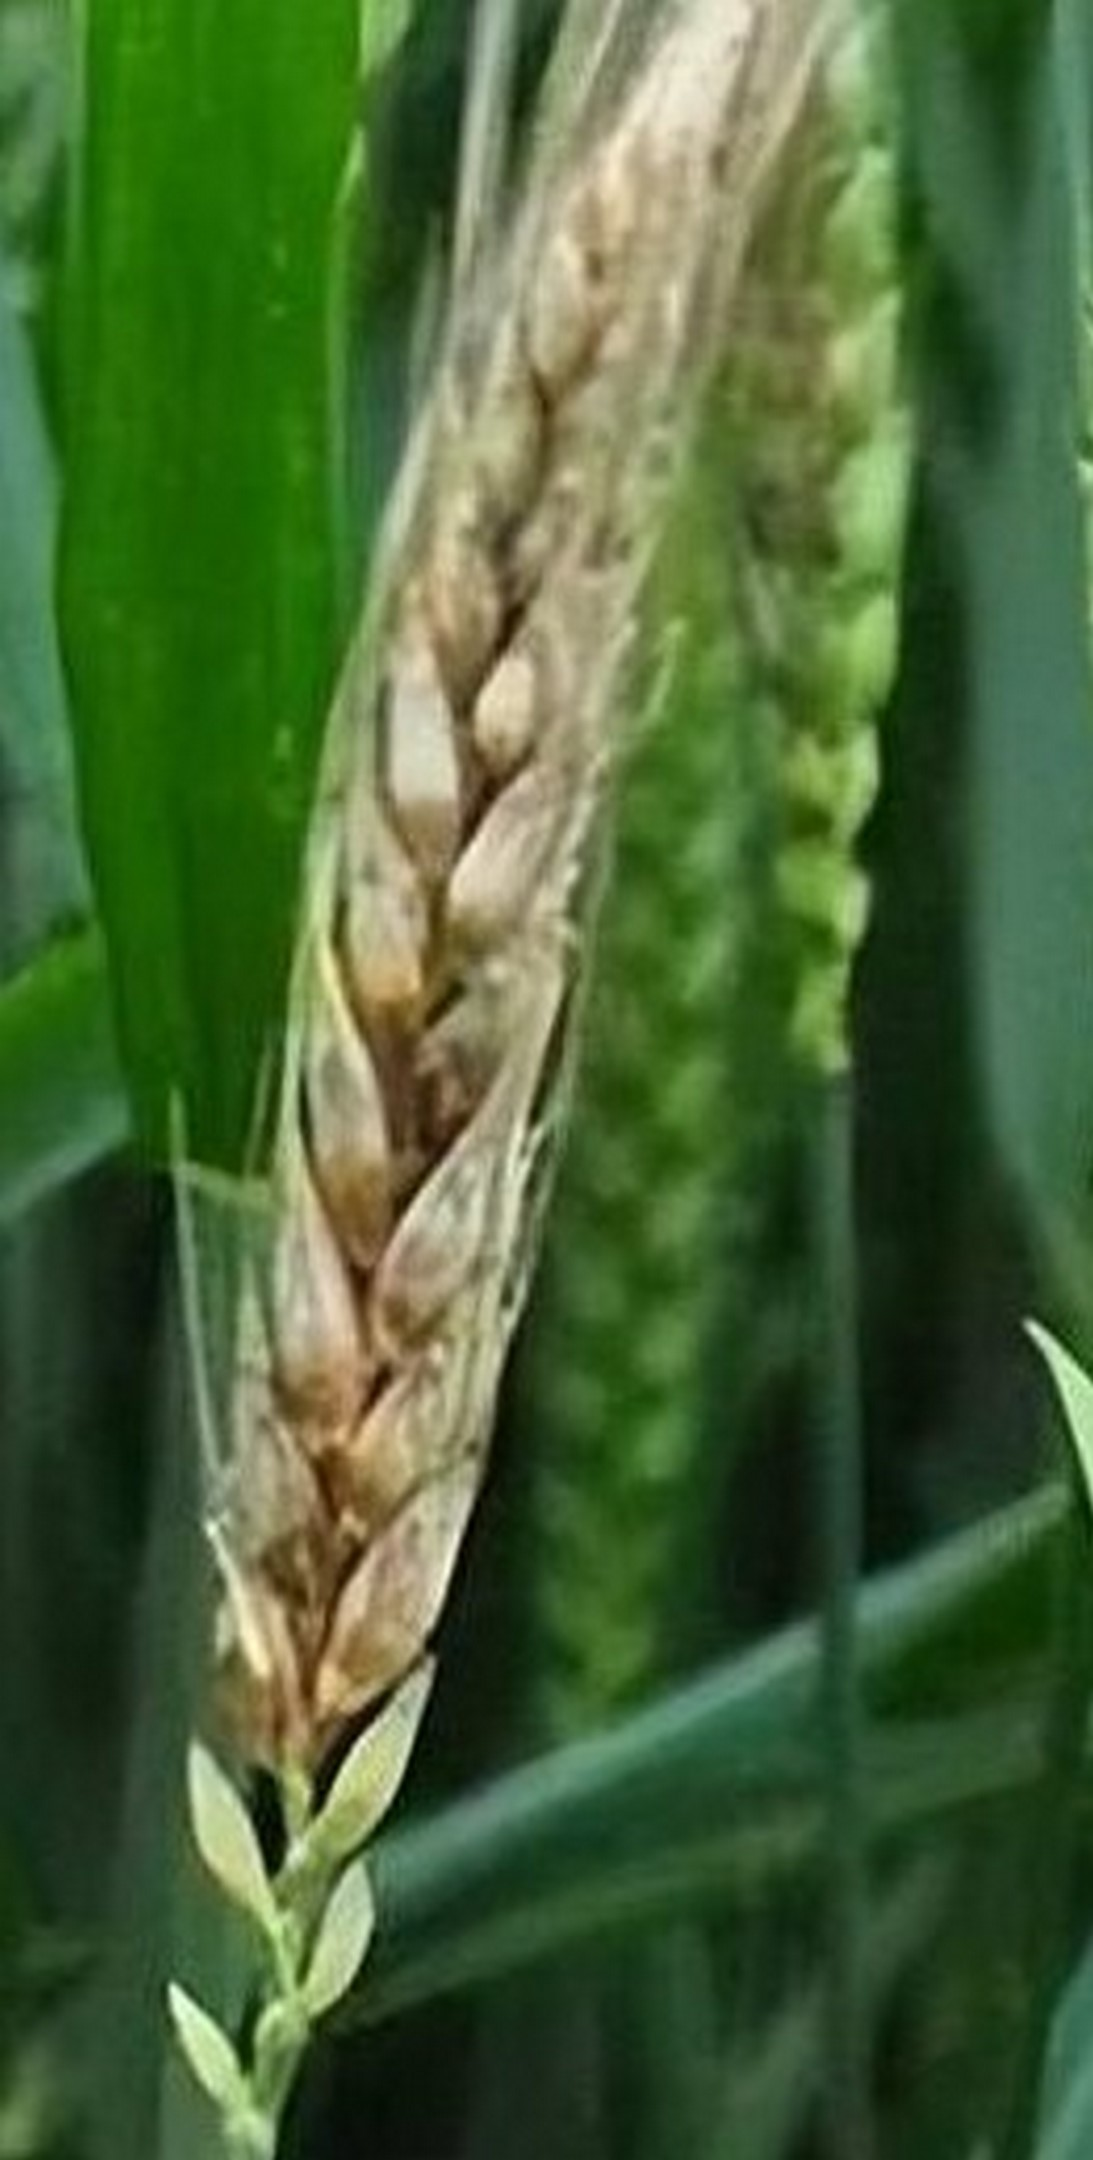Wheat scab: (169, 131, 733, 1793)
